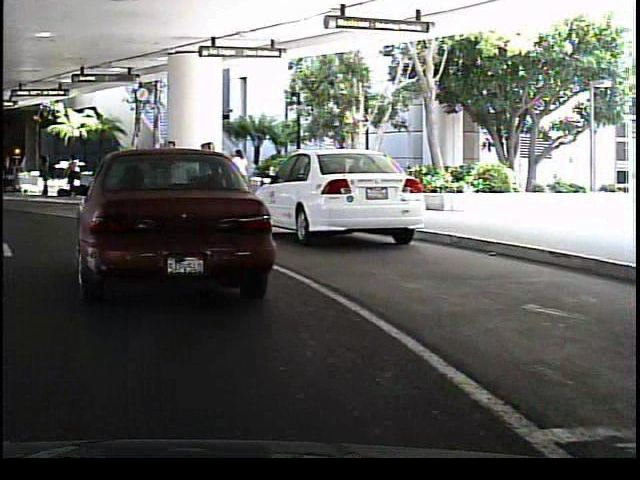person: (191, 136, 216, 211), (155, 135, 180, 207), (224, 145, 252, 203), (35, 149, 54, 201), (61, 155, 82, 196)
